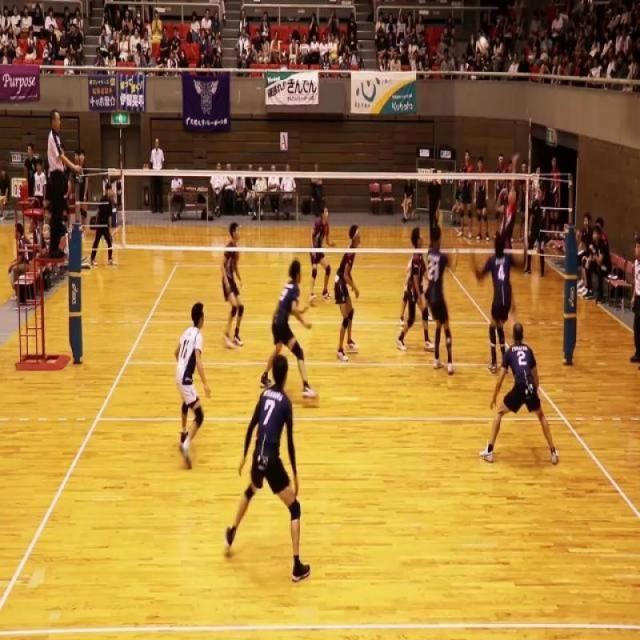volleyball: (478, 36, 488, 54)
